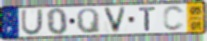0: (44, 7, 70, 36)
C: (162, 5, 186, 32)
Q: (75, 8, 102, 35)
T: (137, 6, 157, 32)
U: (20, 8, 45, 37)
V: (102, 6, 128, 34)
